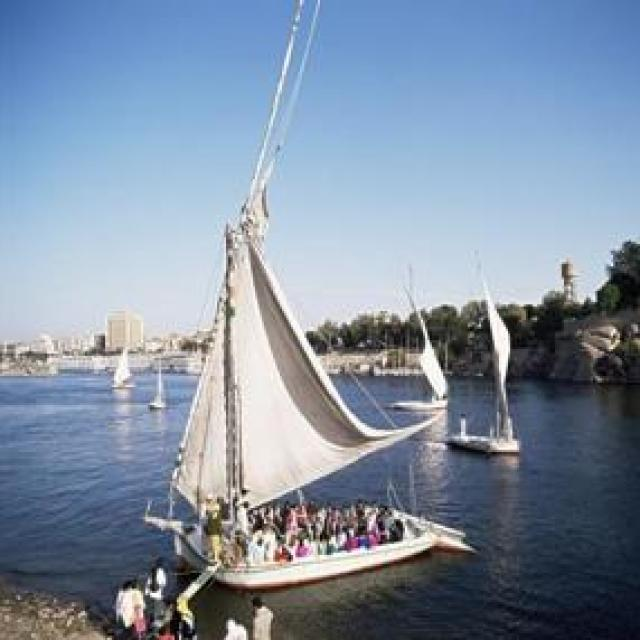sailboat: (159, 197, 457, 577), (444, 253, 528, 461), (376, 283, 454, 412), (100, 344, 136, 390), (146, 363, 169, 413)
